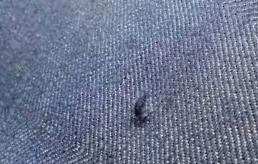knot: (132, 93, 154, 127)
